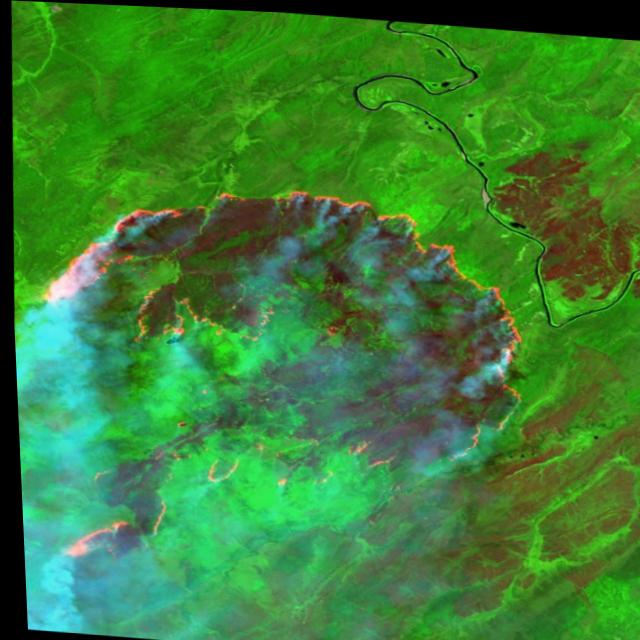fire: (13, 147, 543, 594)
